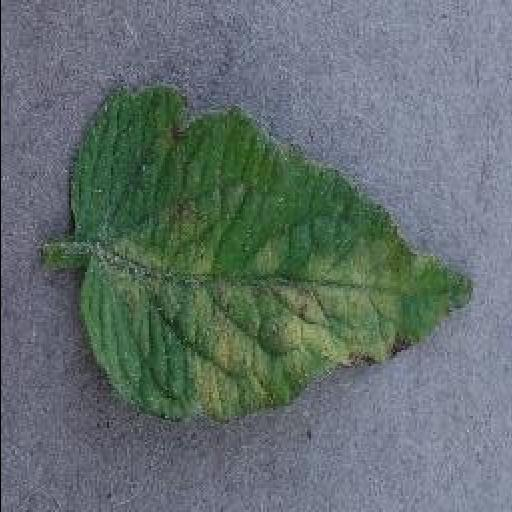disease_tomato: (66, 84, 478, 426)
